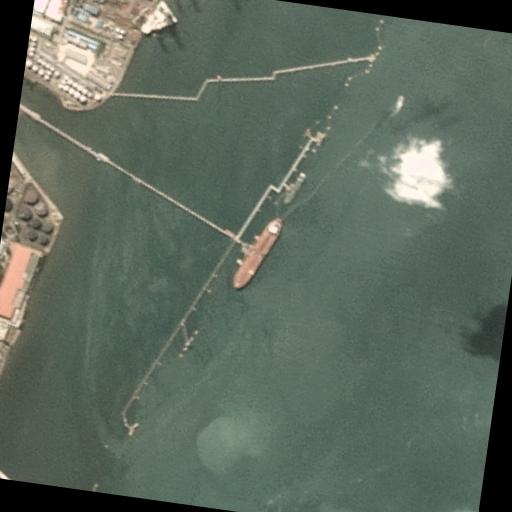ship: (228, 214, 284, 298), (391, 153, 429, 189), (280, 168, 306, 208), (394, 94, 404, 110)
